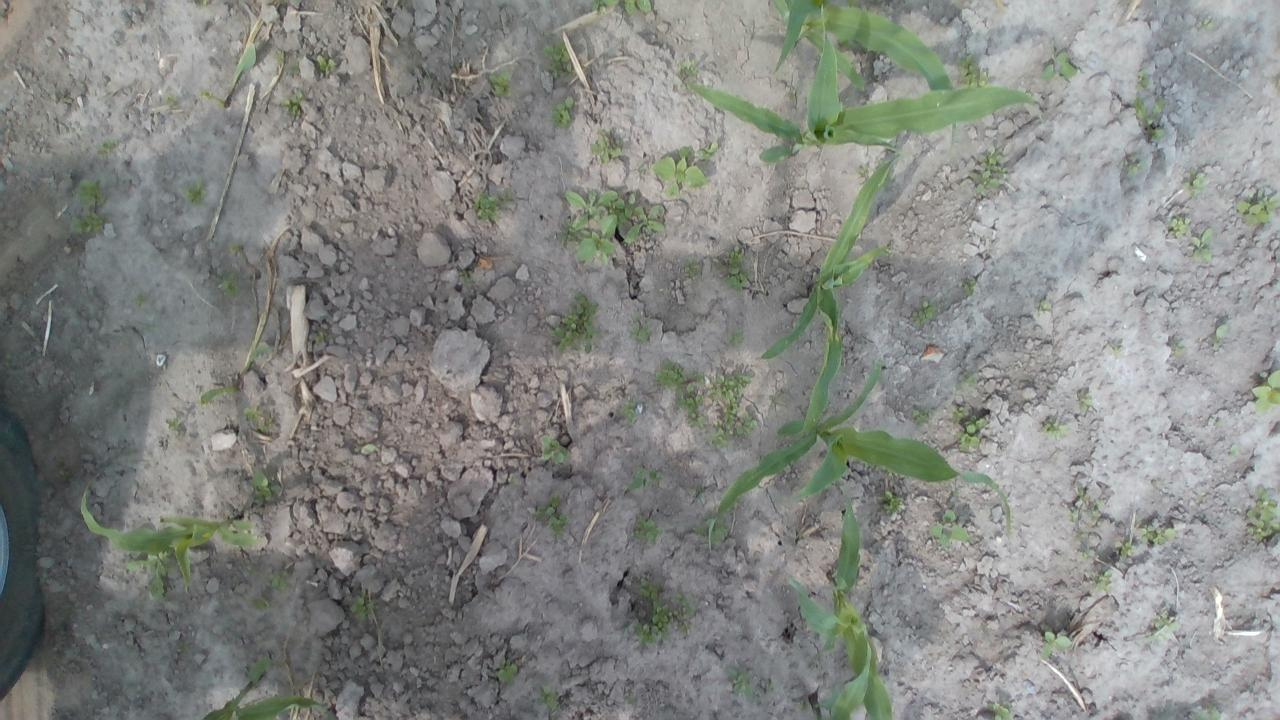Maize: (706, 359, 1012, 539), (686, 7, 1038, 160), (756, 150, 898, 435), (790, 486, 894, 720), (78, 487, 266, 590), (773, 0, 953, 96), (205, 657, 324, 720), (200, 40, 258, 105), (200, 384, 238, 403)
Weeds: (563, 189, 665, 264), (709, 368, 758, 450), (630, 596, 691, 645), (654, 146, 708, 194), (552, 295, 596, 351), (127, 552, 173, 600), (1244, 484, 1280, 544), (1064, 474, 1106, 525), (972, 146, 1008, 190), (931, 508, 970, 546), (623, 462, 661, 499), (530, 496, 567, 532), (1238, 191, 1278, 224), (1252, 369, 1280, 415), (473, 187, 511, 219), (1044, 49, 1078, 84), (680, 390, 706, 433), (961, 412, 990, 450), (538, 42, 574, 72), (632, 515, 663, 548), (961, 54, 992, 86), (592, 0, 652, 16), (1188, 227, 1216, 260), (722, 252, 747, 288), (1148, 611, 1178, 641), (1040, 632, 1072, 660), (699, 516, 732, 543), (656, 359, 690, 385), (590, 132, 619, 162), (549, 96, 574, 128), (1078, 532, 1102, 564), (70, 211, 106, 232), (542, 436, 568, 464), (638, 570, 662, 598), (252, 466, 272, 498), (77, 180, 103, 204), (488, 70, 512, 94), (882, 491, 905, 516), (1187, 704, 1220, 720), (988, 700, 1014, 720), (911, 306, 934, 328), (956, 369, 980, 390), (217, 272, 237, 296), (1150, 520, 1174, 540), (351, 594, 372, 616), (1170, 215, 1191, 237), (248, 657, 268, 679), (1090, 570, 1112, 590), (634, 321, 652, 345), (55, 463, 75, 484), (1188, 174, 1208, 195), (498, 658, 516, 681), (1134, 93, 1148, 122), (912, 407, 931, 428), (167, 414, 185, 436), (244, 404, 264, 423), (679, 58, 700, 76), (284, 90, 300, 113), (1124, 158, 1144, 176), (1040, 418, 1060, 436), (542, 683, 558, 705), (1078, 388, 1094, 410), (186, 182, 204, 201), (315, 55, 337, 70), (1116, 541, 1134, 559), (270, 572, 290, 588), (1216, 318, 1232, 338), (1144, 126, 1162, 143), (1152, 98, 1166, 119), (1135, 74, 1151, 92), (962, 274, 978, 292), (98, 140, 118, 154), (1170, 337, 1186, 353), (624, 404, 639, 421), (251, 596, 269, 610), (732, 672, 746, 690), (1036, 300, 1054, 314), (1109, 338, 1124, 352), (1196, 17, 1214, 28), (684, 265, 700, 277), (1134, 522, 1148, 535), (165, 93, 178, 106), (274, 50, 286, 63), (952, 402, 966, 413), (704, 142, 718, 152), (1228, 444, 1238, 456), (230, 245, 242, 254), (136, 296, 144, 306)
